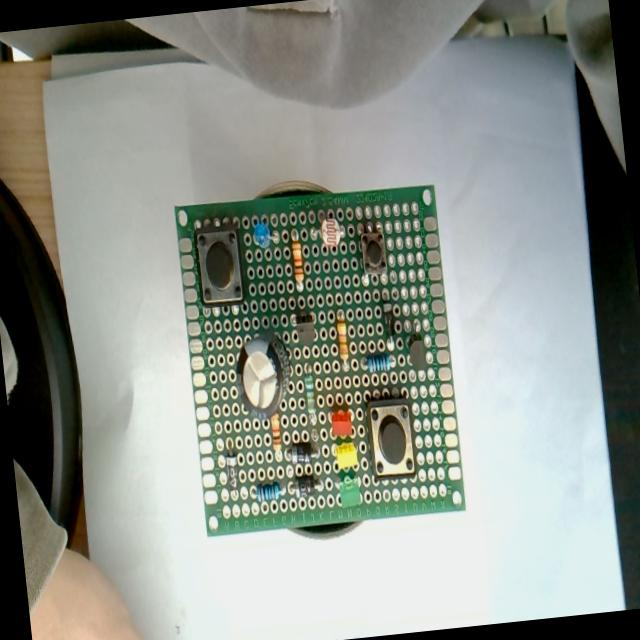Electrolytic capacitor: (230, 328, 292, 422)
cds: (309, 208, 353, 245)
diode: (378, 287, 398, 350), (222, 440, 242, 500), (284, 440, 323, 468), (294, 473, 316, 498)
led: (251, 208, 288, 251), (326, 399, 356, 442), (334, 468, 362, 514), (334, 441, 358, 470)
resistor: (334, 318, 350, 370), (290, 241, 305, 291), (304, 378, 318, 427), (366, 352, 394, 374), (254, 482, 283, 502), (270, 413, 282, 452)
switch: (364, 396, 416, 482), (193, 224, 246, 306), (358, 225, 388, 278)
transistor: (401, 327, 435, 377), (290, 304, 320, 351)
